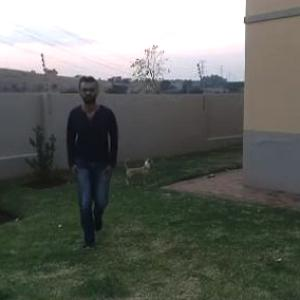follow: (68, 74, 121, 236)
